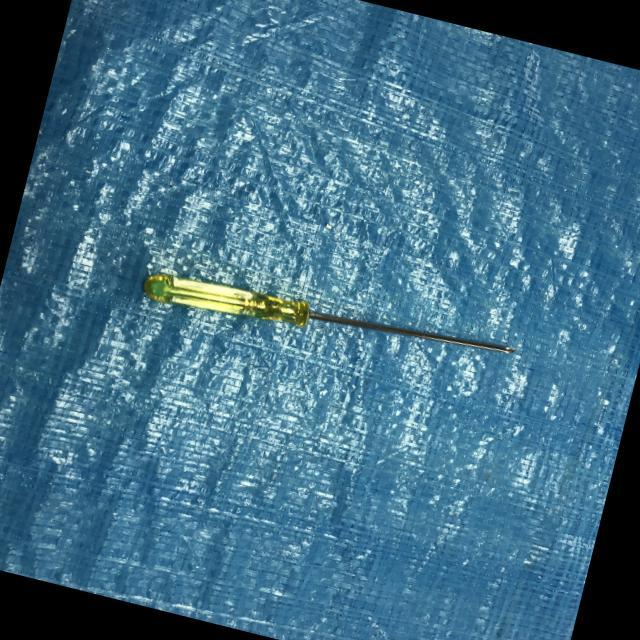screwdriver: (128, 230, 535, 397)
